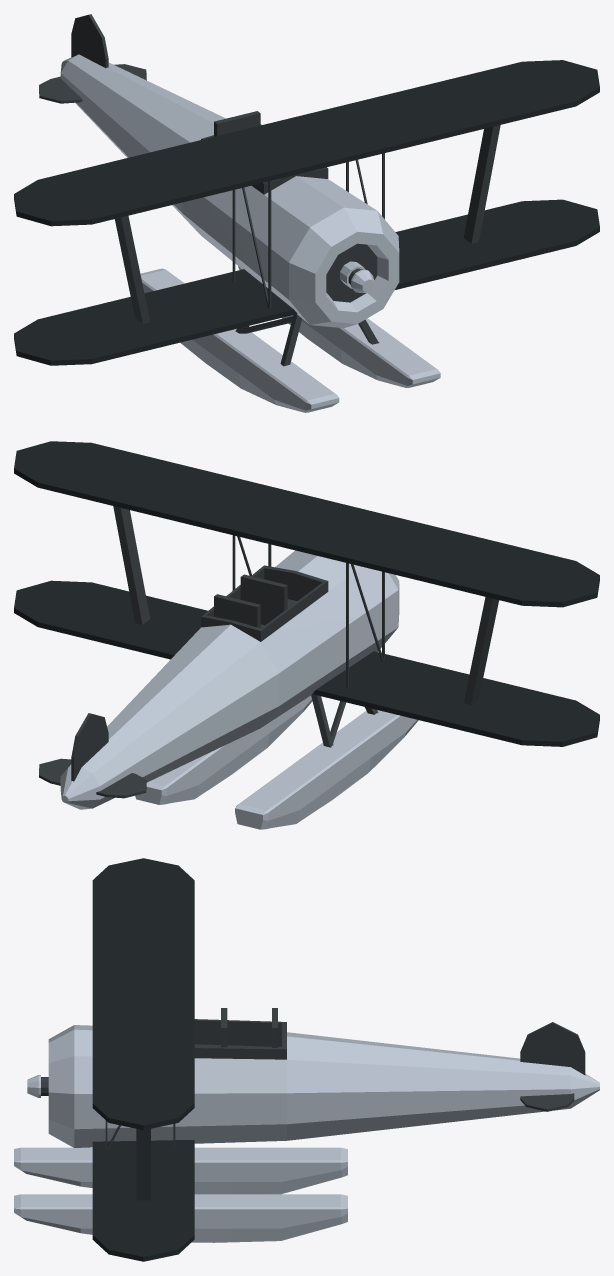
3 renders of one model, top to bottom at view 1: azimuth 30°, elevation 25°; view 2: azimuth 150°, elevation 25°; view 3: azimuth 270°, elevation 25°, orthographic. The views are drawn at different scales.
Visible parts, largest first — view 1: Plane_03; view 2: Plane_03; view 3: Plane_03.
Part boxes in pixels (left/top/right/bottom): Plane_03: left=14, top=14, right=599, bottom=412; Plane_03: left=14, top=441, right=599, bottom=829; Plane_03: left=14, top=858, right=599, bottom=1261.
Size of the model in its own units: 642 by 249 by 595.
